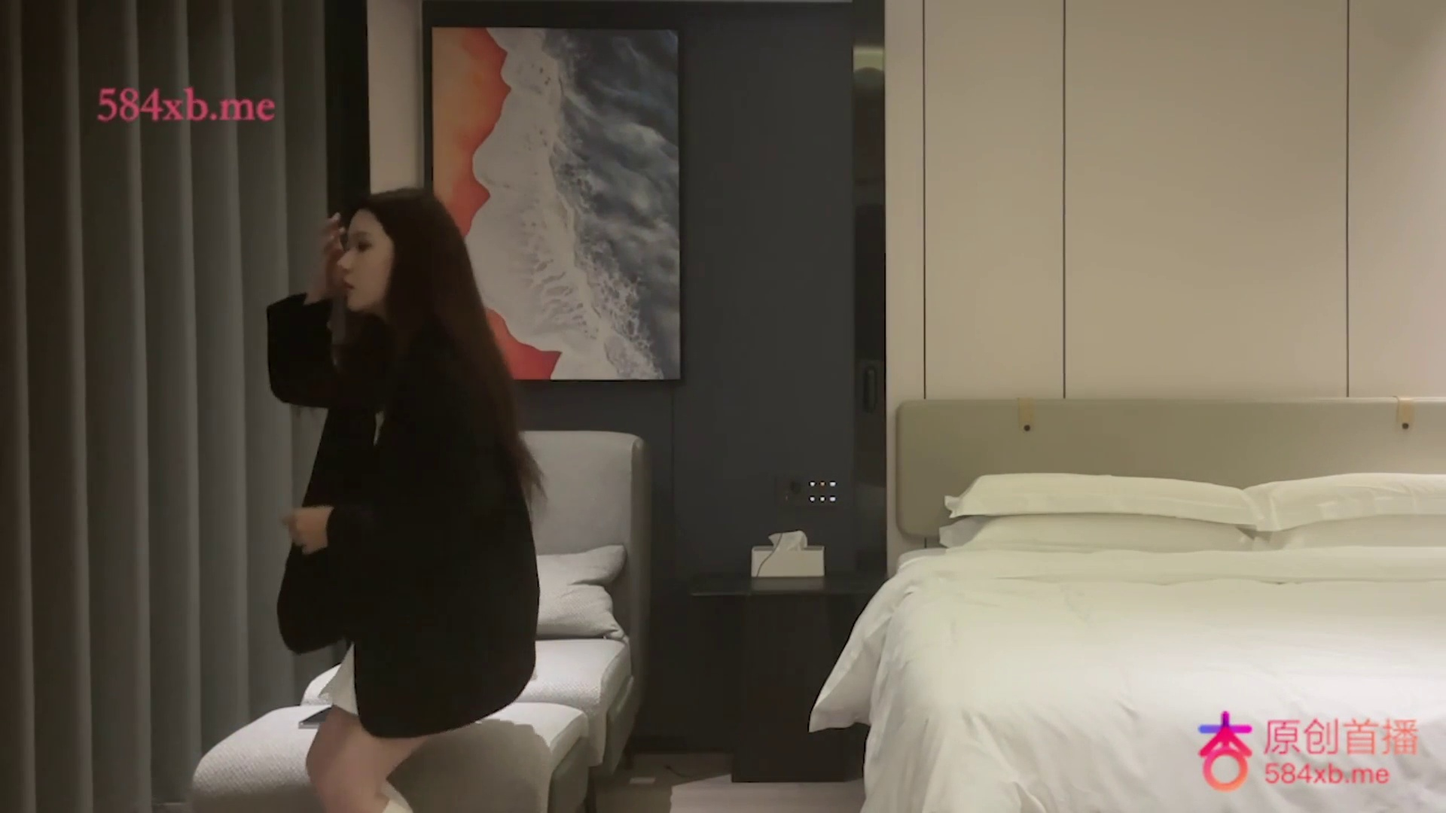squat: (263, 186, 546, 810)
